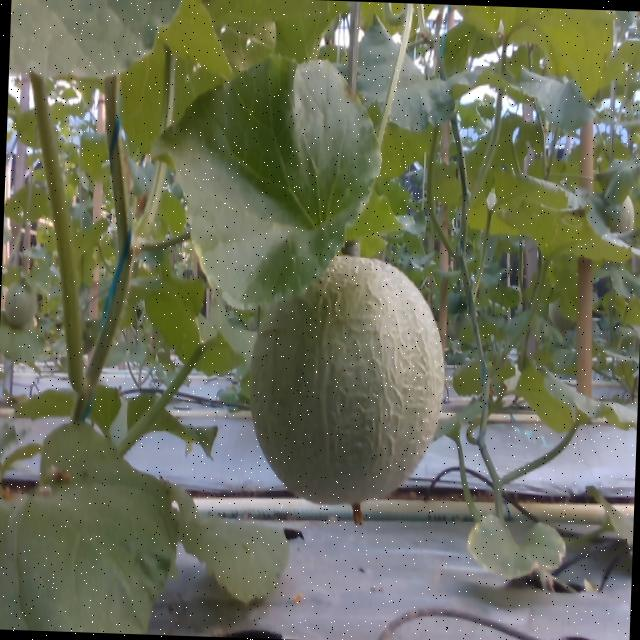melon: (251, 255, 444, 503)
